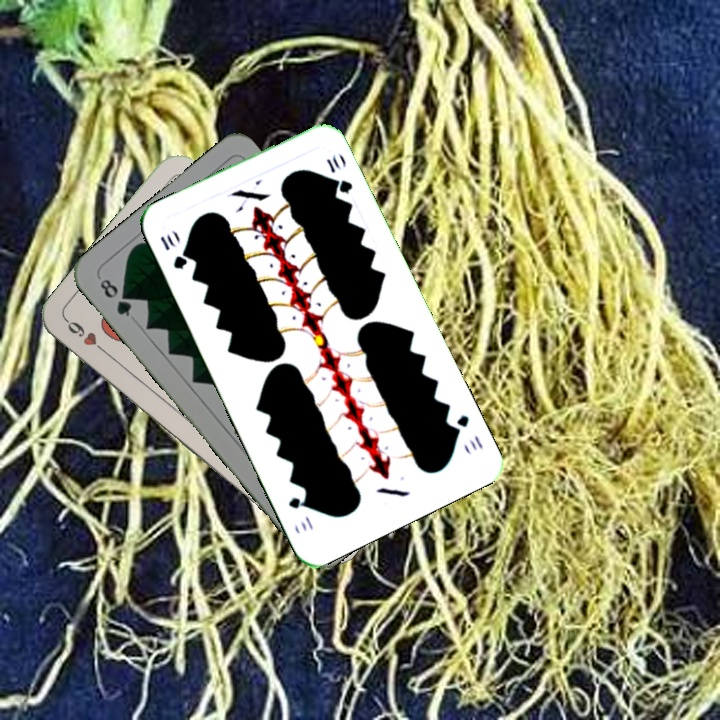G10: (447, 410, 486, 454), (156, 231, 190, 272)
G8: (94, 273, 135, 320)
H9: (62, 315, 111, 358)
